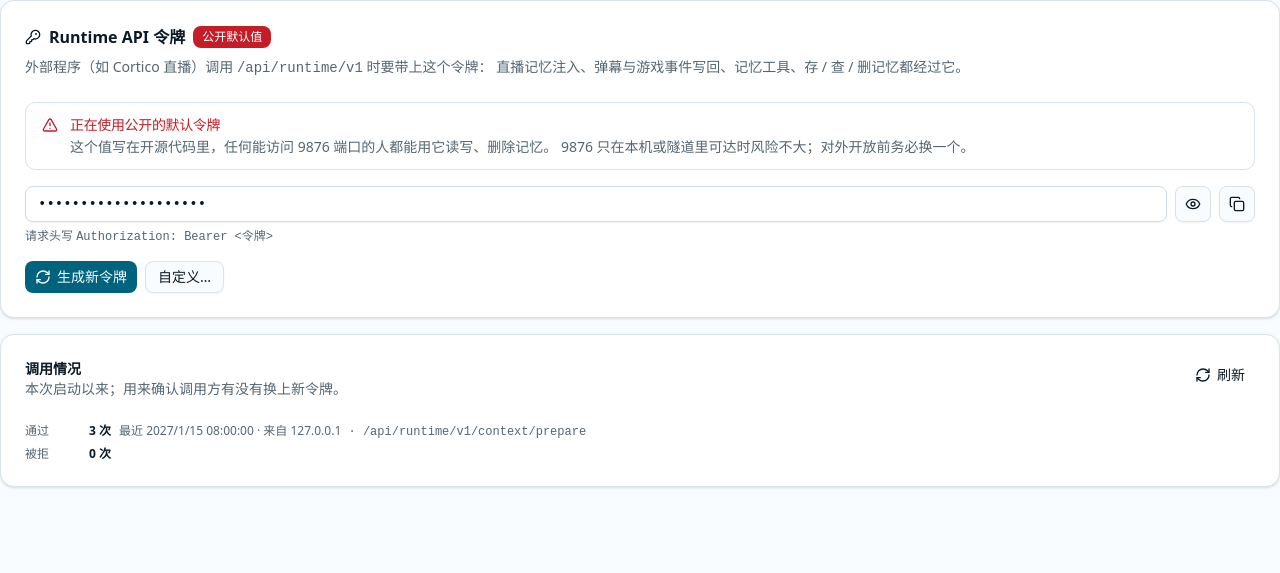
Scenario: RuntimeTokenPanel › 自定义令牌太短时不能保存
The image size is (1280, 573).
Click the button "自定义…" at (185, 277), box [145,261,224,293]
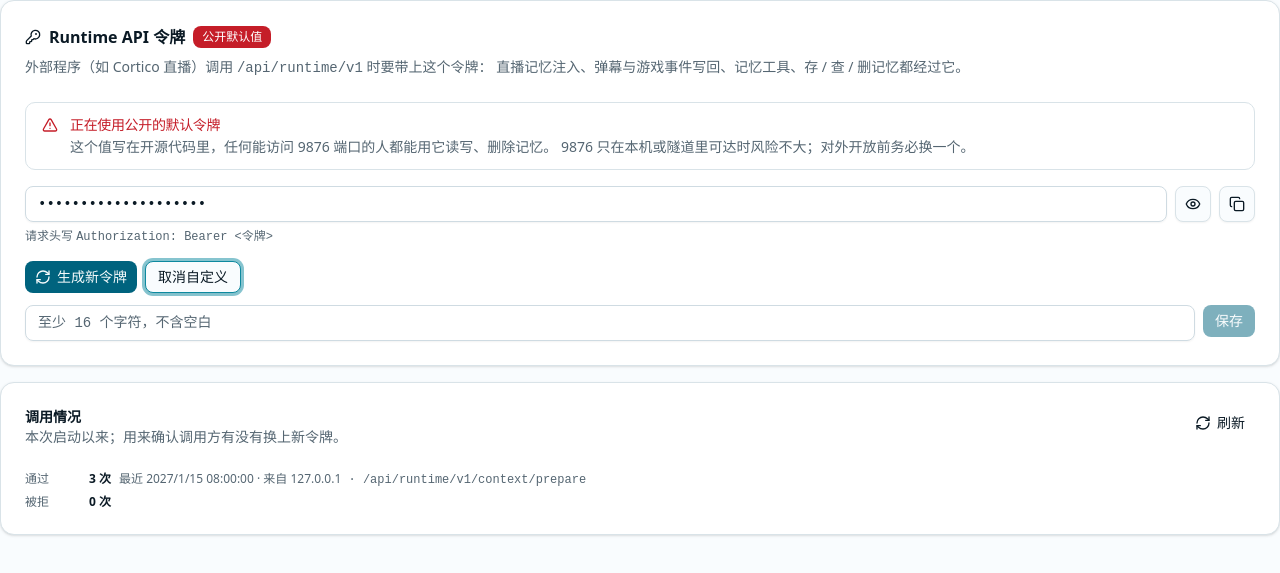
Type "short" into the field named "自定义令牌" at (610, 323), box [25,305,1195,341]
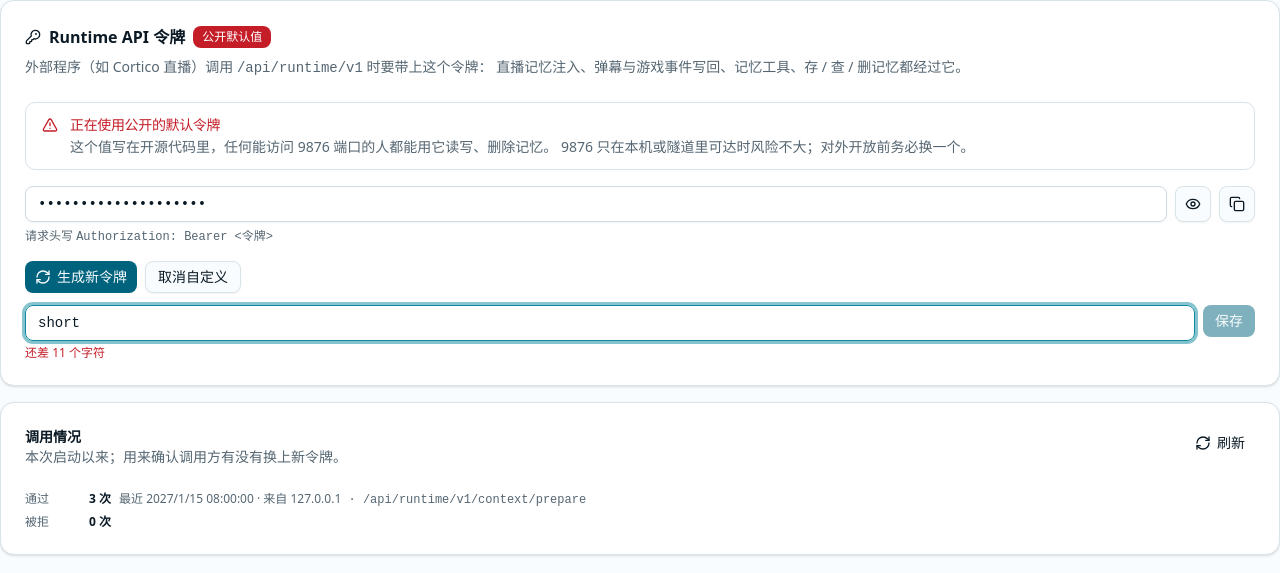
Expected: the button "保存" is disabled, [1203,305,1255,337]
Expected: the text "还差 11 个字符" is shown, [25,344,105,361]
